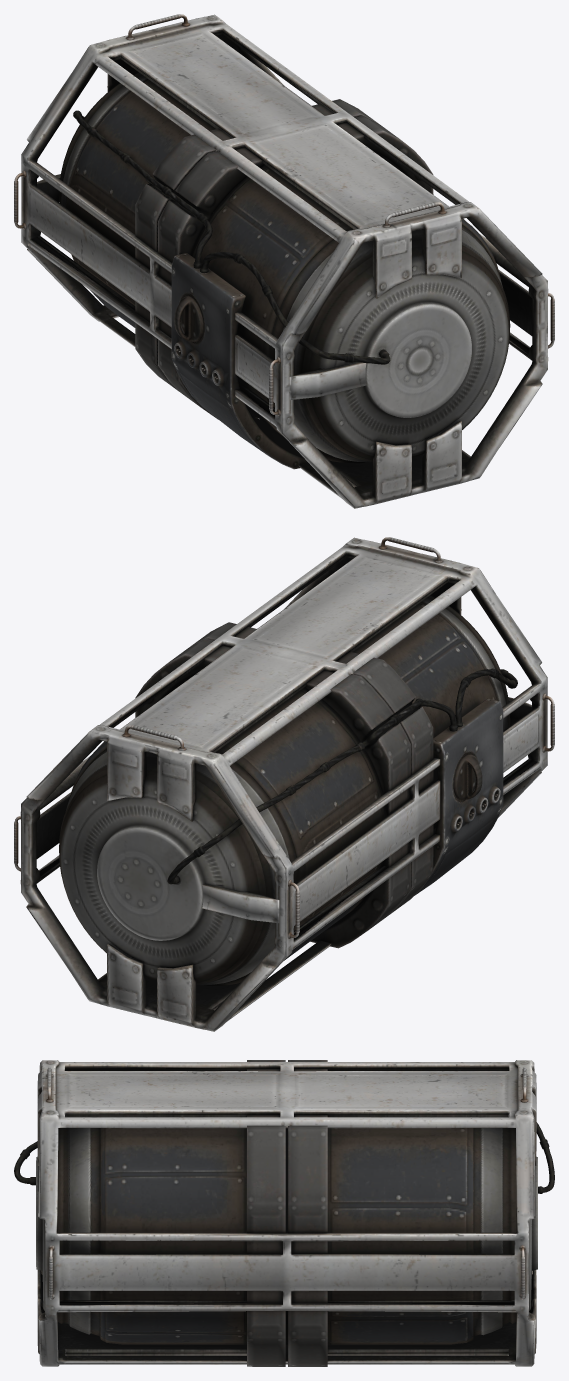
Rendered from EmergencyBackupGenerator.glb.
3 renders of one model, top to bottom at view 1: azimuth 30°, elevation 25°; view 2: azimuth 150°, elevation 25°; view 3: azimuth 270°, elevation 25°, orthographic. The views are drawn at different scales.
Parts seen in each view (by area): view 1: Emergency Backup Generator; view 2: Emergency Backup Generator; view 3: Emergency Backup Generator.
Boxes of the visible parts, x1=… form: Emergency Backup Generator: x1=14, y1=14, x2=554, y2=508; Emergency Backup Generator: x1=14, y1=537, x2=554, y2=1031; Emergency Backup Generator: x1=14, y1=1060, x2=554, y2=1366.
Size of what is drawn, in the model's own units: 4.16 by 3.83 by 7.15.
Materials: 1 (1 with a texture image).
